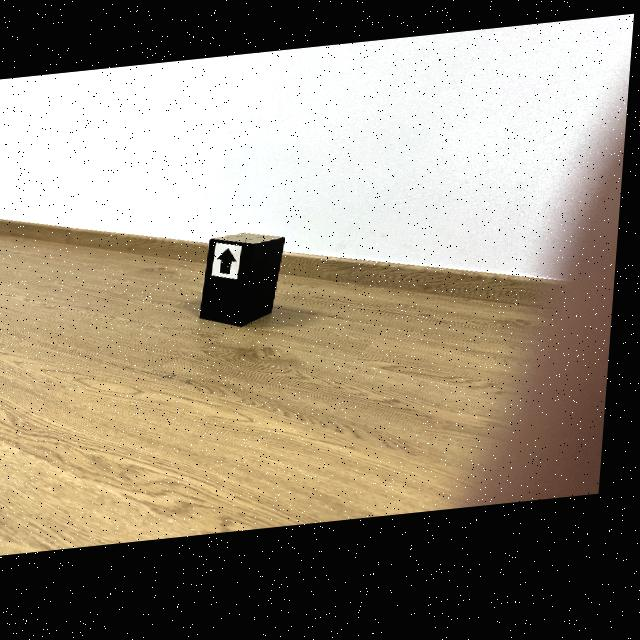UP: (221, 254, 241, 280)
